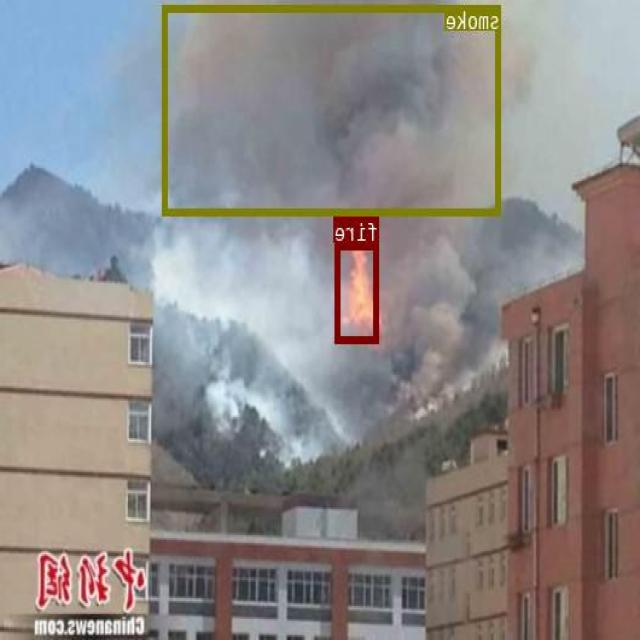fire: (337, 241, 380, 341)
smoke: (164, 3, 502, 214)
